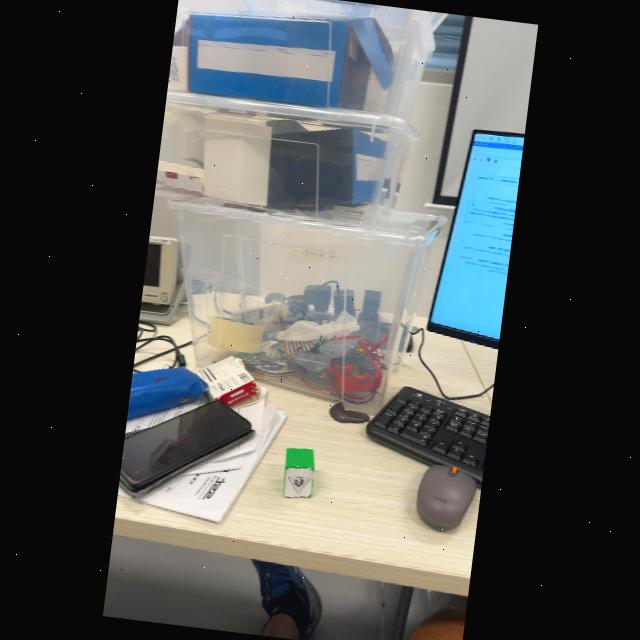Earthquake: (288, 476, 310, 493)
